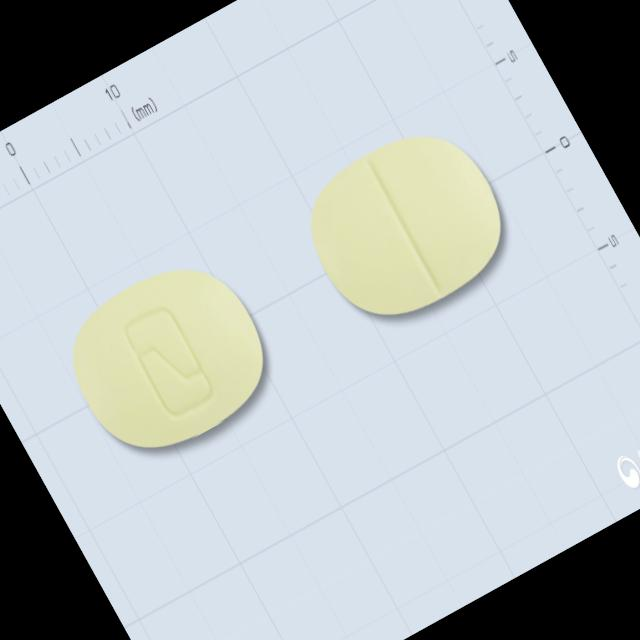Claroma: (45, 236, 292, 478)
